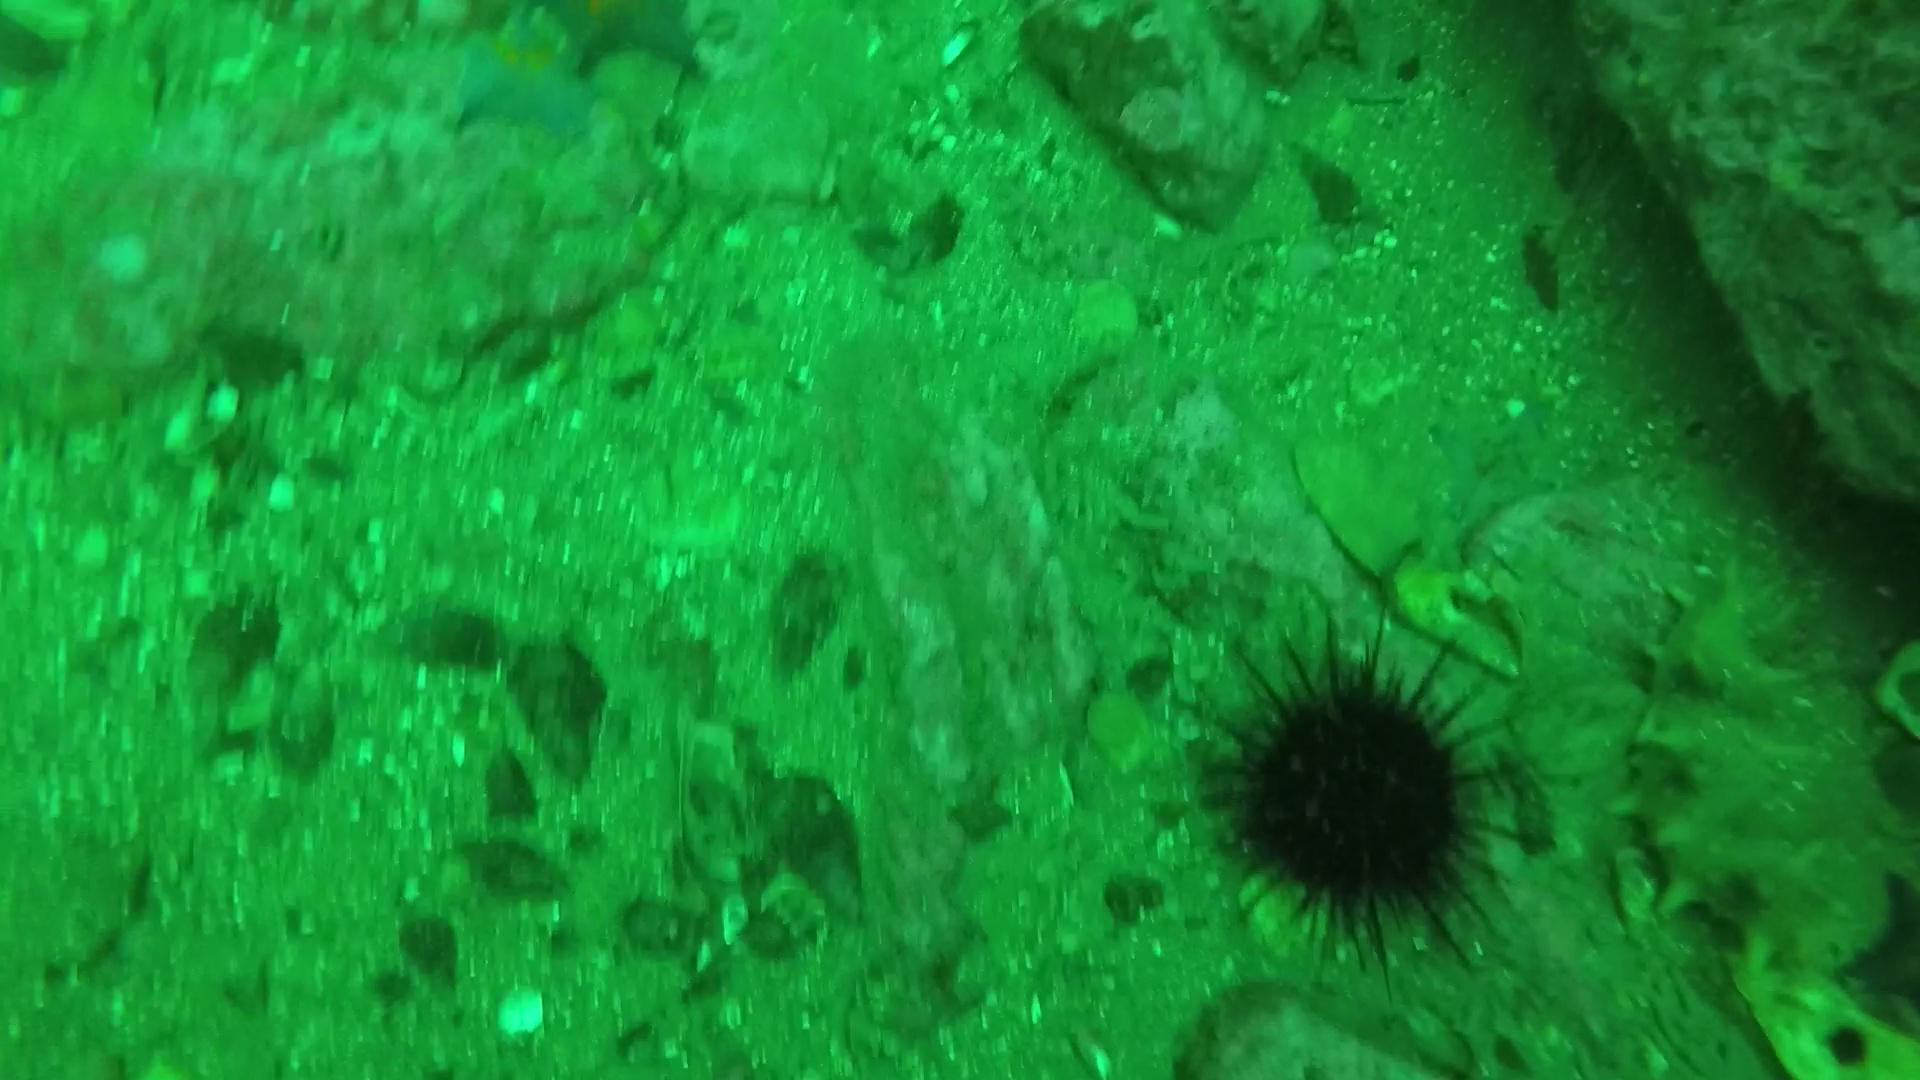urchin: (1153, 609, 1576, 973)
